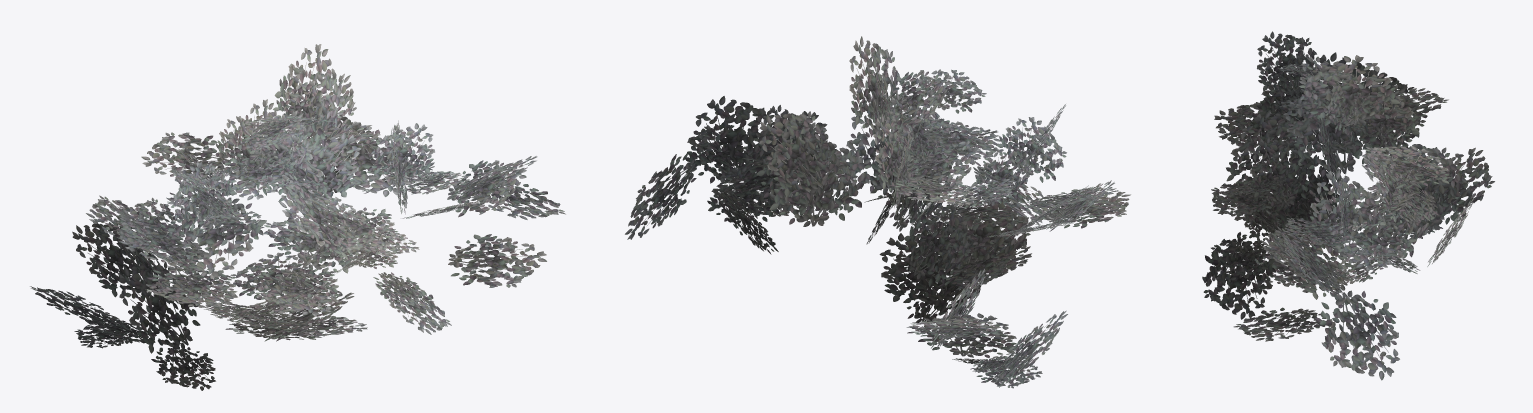
Rendered from acacia_l1.gltf.
3 views of the same model, side by side, from view 1: azimuth 30°, elevation 25°; view 2: azimuth 150°, elevation 25°; view 3: azimuth 270°, elevation 25° (orthographic). The views are drawn at different scales.
Visible parts, largest first — view 1: acacia_l1; view 2: acacia_l1; view 3: acacia_l1.
Boxes of the visible parts, x1=… form: acacia_l1: x1=30, y1=44, x2=565, y2=390; acacia_l1: x1=625, y1=36, x2=1130, y2=388; acacia_l1: x1=1202, y1=31, x2=1494, y2=380.
Bounding box in the file's own units: 12.5 × 7.42 × 7.37.
1 material, 1 textured.
